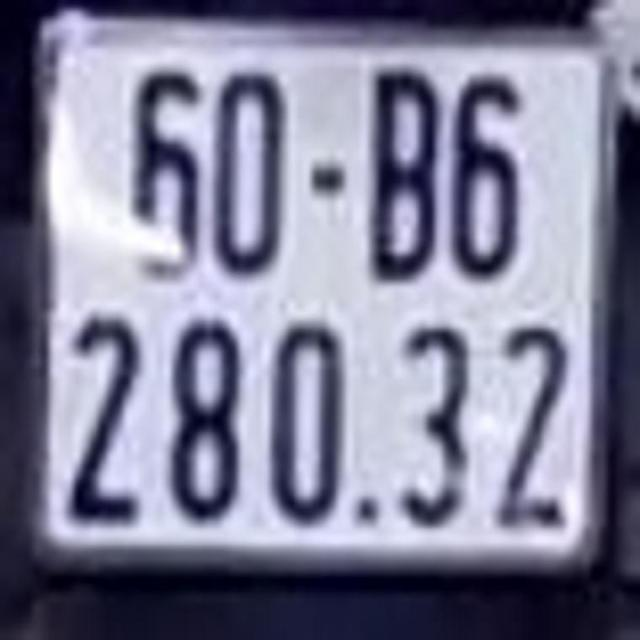0: (264, 320, 342, 524), (210, 66, 282, 274)
2: (488, 317, 570, 534), (64, 308, 142, 522)
3: (394, 320, 471, 529)
6: (122, 59, 201, 280), (448, 68, 522, 282)
8: (162, 312, 250, 525)
B: (364, 64, 441, 282)
